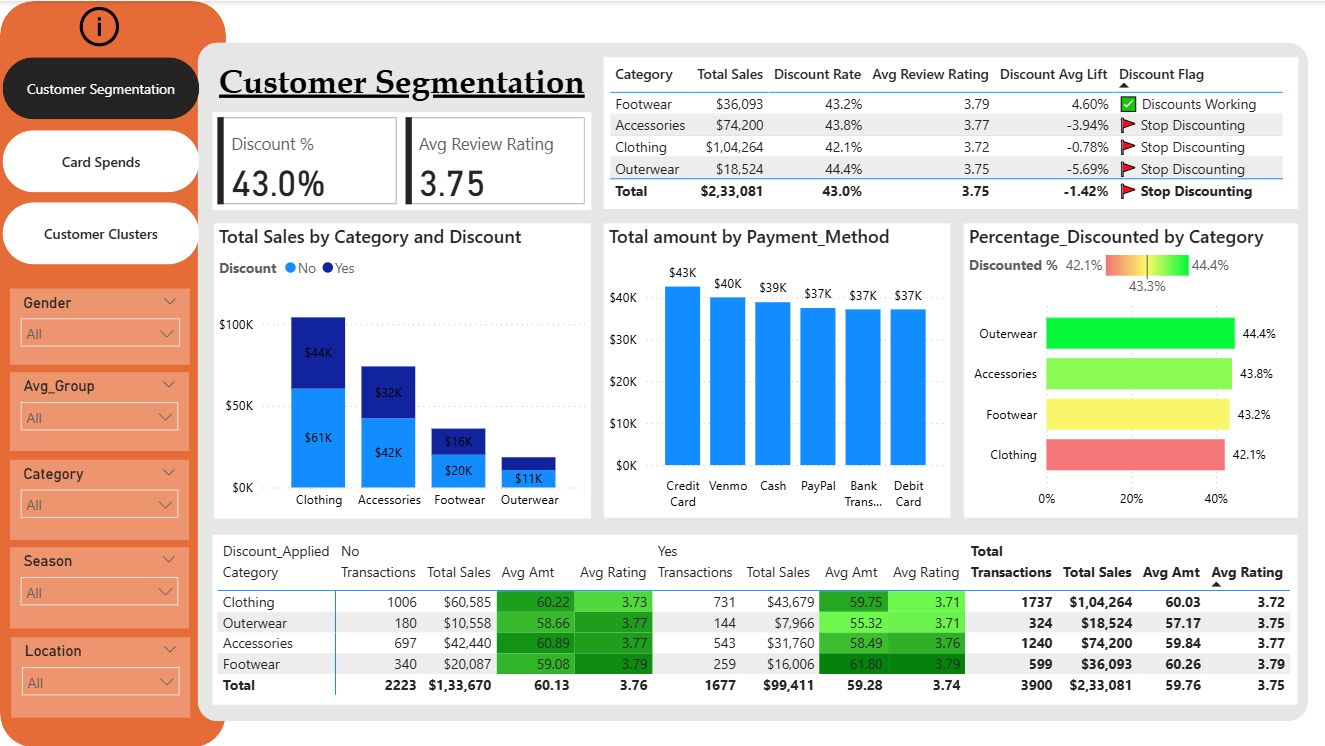

Layout of this report page (visuals, bound fields, positions):
{"tool":"powerbi","page":{"name":"Customer Segmentation","canvas":[1280,720],"ordinal":0},"visuals":[{"type":"group","id":"g1","title":"Group 1","box":[0,0,1262.6,720.4],"z":0},{"type":"shape","box":[0,0,218.1,720.4],"z":0,"group":"g1"},{"type":"shape","box":[190.7,39.9,1071.9,655.6],"z":1000,"group":"g1"},{"type":"tableEx","fields":{"Values":["Sales.Category","New_Measures.Total Sales","New_Measures.% Transactions Discounted","New_Measures.Avg Review Rating","New_Measures.Discount Avg Lift","New measures.Discount Flag"]},"box":[582.4,54.5,670.1,146.7],"z":1000},{"type":"columnChart","fields":{"Y":["New_Measures.Total Sales"],"Category":["Sales.Category"],"Series":["Sales.Discount_Applied"]},"box":[206.3,214.7,364.3,284.7],"z":2000},{"type":"pivotTable","fields":{"Values":["New_Measures.Transactions","New_Measures.Total Sales","New_Measures.Avg Purchase Amt","New_Measures.Avg Review Rating"],"Rows":["Sales.Category"],"Columns":["Sales.Discount_Applied"]},"box":[205.1,515.2,1047.2,164.1],"z":3000},{"type":"clusteredColumnChart","title":"Total amount by Payment_Method","fields":{"Category":["Sales.Payment_Method"],"Y":["Sum(Sales.Purchase_Amount_USD)"]},"box":[582.4,214.8,334.3,284.4],"z":4000},{"type":"barChart","title":"Percentage_Discounted by Category","fields":{"Y":["New_Measures.% Transactions Discounted"],"Category":["Sales.Category"]},"box":[930.3,214.8,322.2,284.4],"z":5000},{"type":"slicer","fields":{"Values":["Sales.Gender"]},"box":[9.7,277.5,173.7,73.6],"z":6000},{"type":"slicer","fields":{"Values":["Customrs.Avg_Group"]},"box":[9.4,357.8,172.5,76],"z":7000},{"type":"slicer","fields":{"Values":["Sales.Category"]},"box":[9.4,442.3,172.5,77.2],"z":8000},{"type":"slicer","fields":{"Values":["Sales.Season"]},"box":[9.4,526.7,172.5,78.4],"z":9000},{"type":"slicer","fields":{"Values":["Sales.Location"]},"box":[10.9,614.1,172.5,77.2],"z":10000},{"type":"pageNavigator","box":[0,54.3,190.6,202.7],"z":11000},{"type":"textbox","box":[205.1,54.3,365.6,73.6],"z":11001,"group":"g1"},{"type":"cardVisual","fields":{"Data":["New measures.% Transactions Discounted","New measures.Avg Review Rating"]},"box":[205.1,107.4,365.6,94.1],"z":12000},{"type":"actionButton","box":[71.2,0,53.1,49.5],"z":13000}]}

Visuals, with their boxes in screenshot pixels (x1, y1, x2, y2), scaled from the page's 1280x720 canvas onto the 1325x746 screenshot:
"Group 1" group: detection(0, 0, 1307, 745)
shape: detection(0, 0, 226, 745)
shape: detection(197, 41, 1307, 721)
tableEx - Sales.Category x New_Measures.Total Sales: detection(603, 56, 1297, 208)
columnChart - New_Measures.Total Sales x Sales.Category: detection(214, 222, 591, 517)
pivotTable - New_Measures.Transactions x New_Measures.Total Sales: detection(212, 534, 1296, 704)
"Total amount by Payment_Method" clusteredColumnChart: detection(603, 223, 949, 517)
"Percentage_Discounted by Category" barChart: detection(963, 223, 1297, 517)
slicer - Sales.Gender: detection(10, 288, 190, 364)
slicer - Customrs.Avg_Group: detection(10, 371, 188, 449)
slicer - Sales.Category: detection(10, 458, 188, 538)
slicer - Sales.Season: detection(10, 546, 188, 627)
slicer - Sales.Location: detection(11, 636, 190, 716)
pageNavigator: detection(0, 56, 197, 266)
textbox: detection(212, 56, 591, 133)
cardVisual - New measures.% Transactions Discounted x New measures.Avg Review Rating: detection(212, 111, 591, 209)
actionButton: detection(74, 0, 129, 51)
